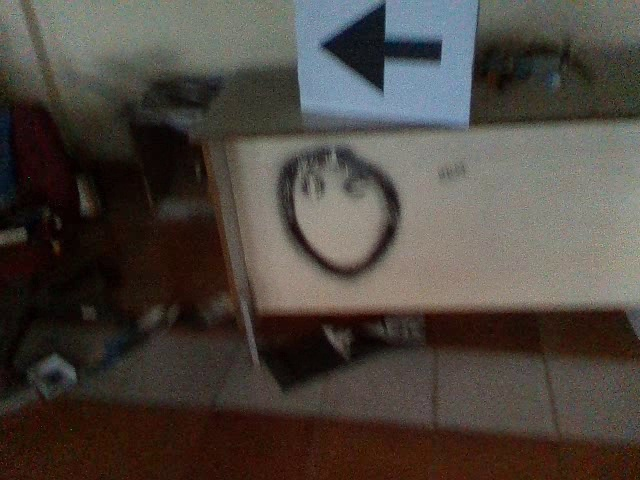Left: (312, 1, 445, 103)
